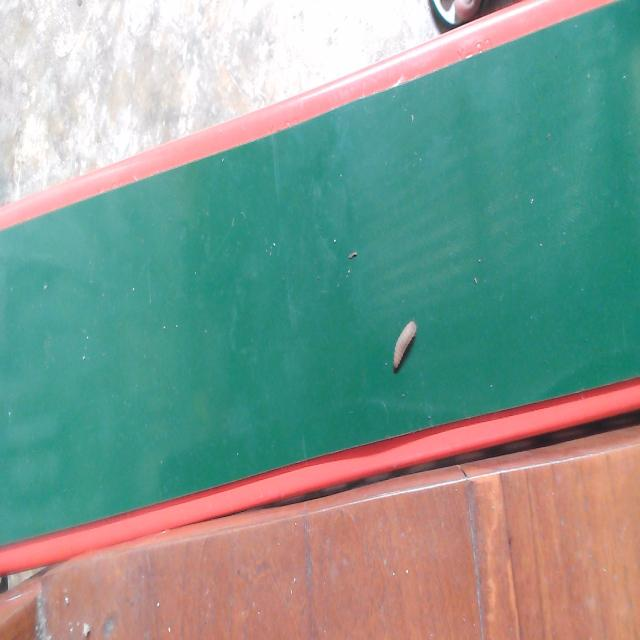Maggot: (391, 320, 418, 375)
